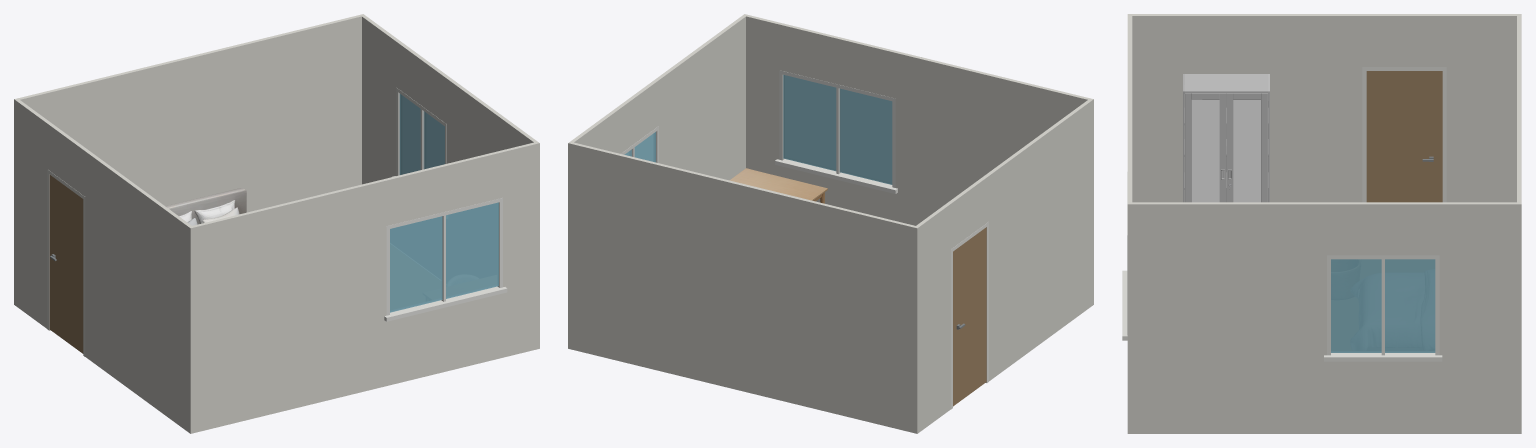
File: scenesmith.glb
3 renders of one model, left to right at view 1: azimuth 30°, elevation 25°; view 2: azimuth 150°, elevation 25°; view 3: azimuth 270°, elevation 25°, orthographic. The views are drawn at different scales.
Visible parts, largest first — view 1: scene_072_bedroom_south_wall, scene_072_bedroom_north_wall, scene_072_bedroom_west_wall, scene_072_bedroom_east_wall, scene_072_bedroom_south_wall Window 0 | glazing, scene_072_bedroom_west_wall Door 0 | wood leaf, scene_072_bedroom_east_wall Window 0 | glazing, scene_072_bedroom_south_wall Window 0 | jamb, furniture_group, scene_072_bedroom_west_wall Door 0 | jamb, scene_072_bedroom_east_wall Window 0 | jamb; view 2: scene_072_bedroom_north_wall, scene_072_bedroom_south_wall, scene_072_bedroom_west_wall, scene_072_bedroom_east_wall, scene_072_bedroom_south_wall Window 0 | glazing, scene_072_bedroom_west_wall Door 0 | wood leaf, scene_072_bedroom_south_wall Window 0 | jamb, furniture_group, scene_072_bedroom_west_wall Door 0 | jamb; view 3: scene_072_bedroom_east_wall, scene_072_bedroom_west_wall, scene_072_bedroom_west_wall Door 0 | wood leaf, scene_072_bedroom_east_wall Window 0 | glazing, P_11823adfd27b5318.001, P_210768f5bbf3169b.001, scene_072_bedroom_east_wall Window 0 | jamb, scene_072_bedroom_north_wall, scene_072_bedroom_west_wall Door 0 | jamb, scene_072_bedroom_south_wall, scene_072_bedroom_south_wall Window 0 | jamb.
Part boxes in pixels (<box>): scene_072_bedroom_south_wall: <box>192,142,539,432</box>; scene_072_bedroom_north_wall: <box>18,15,361,212</box>; scene_072_bedroom_west_wall: <box>14,98,194,433</box>; scene_072_bedroom_east_wall: <box>360,14,539,184</box>; scene_072_bedroom_south_wall Window 0 | glazing: <box>390,202,498,312</box>; scene_072_bedroom_west_wall Door 0 | wood leaf: <box>49,175,83,353</box>; scene_072_bedroom_east_wall Window 0 | glazing: <box>399,93,444,174</box>; scene_072_bedroom_south_wall Window 0 | jamb: <box>384,198,507,321</box>; furniture_group: <box>165,188,246,225</box>; scene_072_bedroom_west_wall Door 0 | jamb: <box>47,169,85,356</box>; scene_072_bedroom_east_wall Window 0 | jamb: <box>391,87,446,177</box>; scene_072_bedroom_north_wall: <box>568,142,917,433</box>; scene_072_bedroom_south_wall: <box>743,14,1089,225</box>; scene_072_bedroom_west_wall: <box>914,98,1093,433</box>; scene_072_bedroom_east_wall: <box>568,14,747,180</box>; scene_072_bedroom_south_wall Window 0 | glazing: <box>783,75,892,184</box>; scene_072_bedroom_west_wall Door 0 | wood leaf: <box>953,227,986,406</box>; scene_072_bedroom_south_wall Window 0 | jamb: <box>775,70,897,193</box>; furniture_group: <box>729,168,827,203</box>; scene_072_bedroom_west_wall Door 0 | jamb: <box>951,222,988,409</box>; scene_072_bedroom_east_wall: <box>1127,202,1521,433</box>; scene_072_bedroom_west_wall: <box>1127,14,1521,202</box>; scene_072_bedroom_west_wall Door 0 | wood leaf: <box>1366,71,1442,202</box>; scene_072_bedroom_east_wall Window 0 | glazing: <box>1331,259,1435,352</box>; P_11823adfd27b5318.001: <box>1192,100,1260,202</box>; P_210768f5bbf3169b.001: <box>1183,74,1269,202</box>; scene_072_bedroom_east_wall Window 0 | jamb: <box>1324,255,1442,361</box>; scene_072_bedroom_north_wall: <box>1517,16,1521,433</box>; scene_072_bedroom_west_wall Door 0 | jamb: <box>1362,67,1446,202</box>; scene_072_bedroom_south_wall: <box>1127,16,1132,203</box>; scene_072_bedroom_south_wall Window 0 | jamb: <box>1122,172,1127,340</box>.
Size of the model in its own units: 4.9 by 2.71 by 4.25.
Materials: 18 (6 with a texture image).
